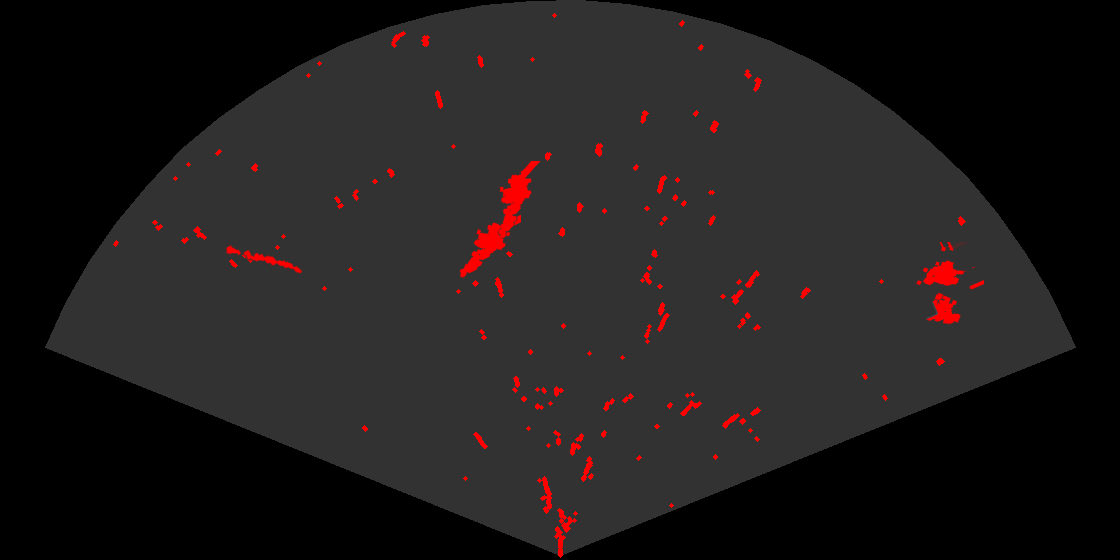cage: (915, 242, 984, 326)
chain: (223, 243, 304, 275)
frogman: (458, 213, 521, 279), (497, 161, 542, 240)
